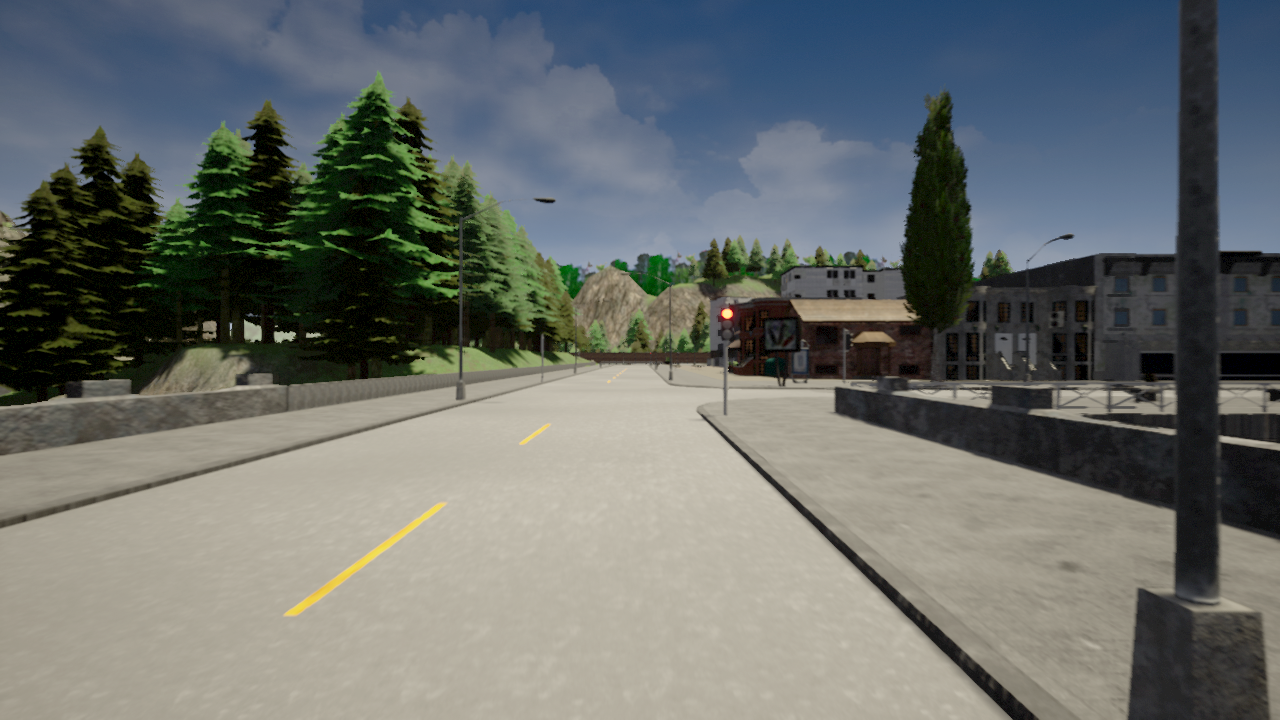red: (719, 306, 734, 343)
